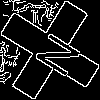N: (25, 25, 83, 80)
